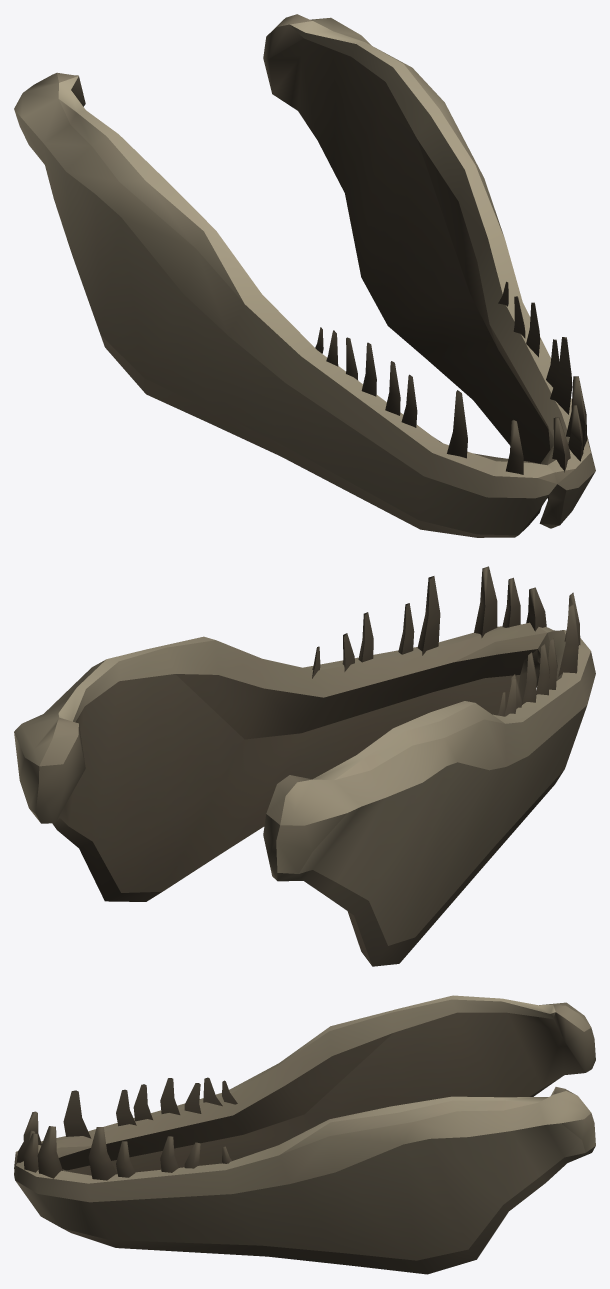
The model's file is Giant_Skull_3C.fbx.
3 renders of one model, top to bottom at view 1: azimuth 30°, elevation 25°; view 2: azimuth 150°, elevation 25°; view 3: azimuth 270°, elevation 25°, orthographic. The views are drawn at different scales.
Parts seen in each view (by area): view 1: Giant_Skull_3C; view 2: Giant_Skull_3C; view 3: Giant_Skull_3C.
Boxes of the visible parts, box(x1,y1,x2,y2) form: Giant_Skull_3C: box(14, 14, 595, 537); Giant_Skull_3C: box(14, 566, 595, 966); Giant_Skull_3C: box(14, 995, 595, 1274).
Bounding box in the file's own units: 91.16 × 61.15 × 178.
